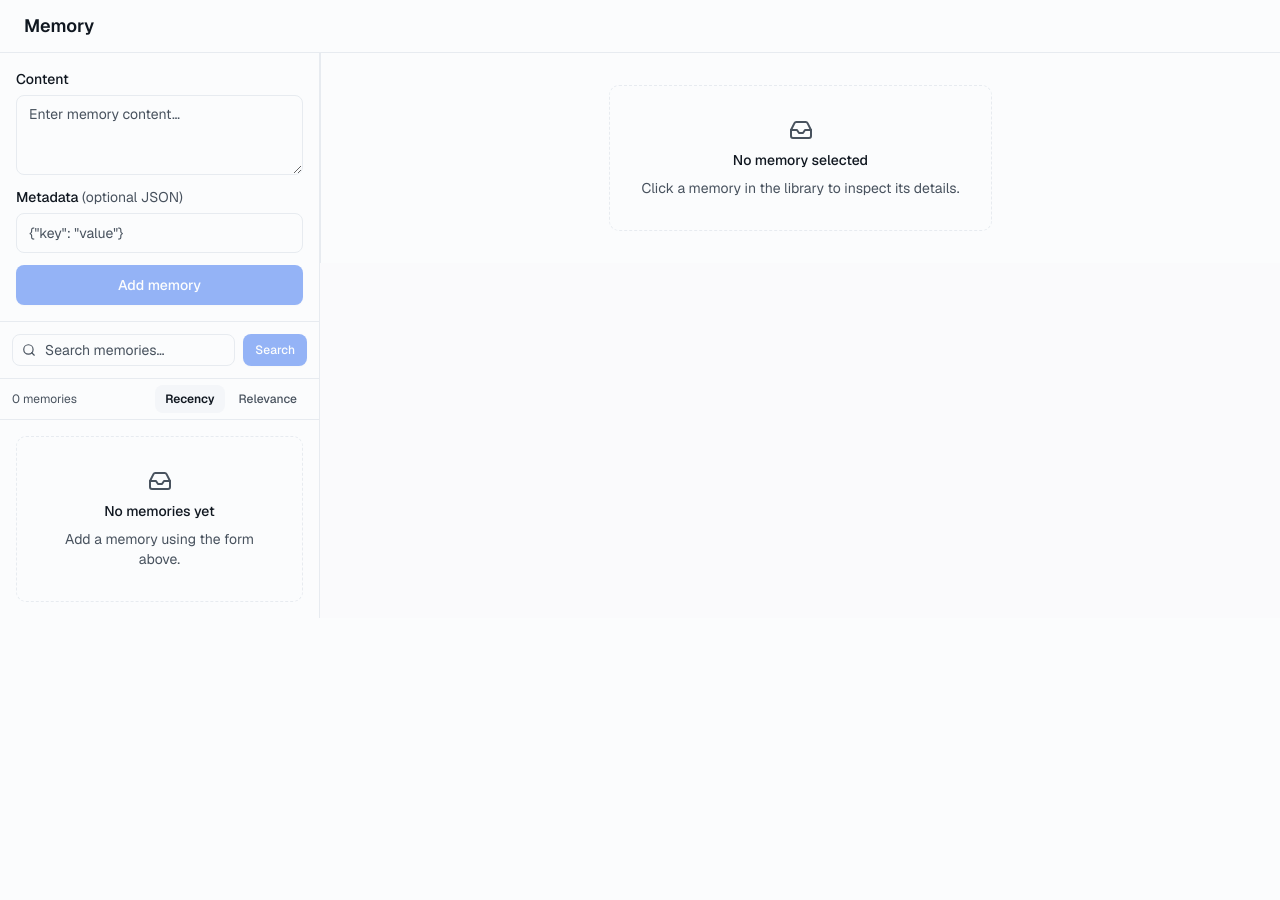
MemoryWorkspace › add_memory_posts_and_refreshes_list
Check: the button "Add memory" is disabled, box [16,265,303,305]
Type "Brand new memory" into the text box named "memory content" at (160, 135), box [16,95,303,175]
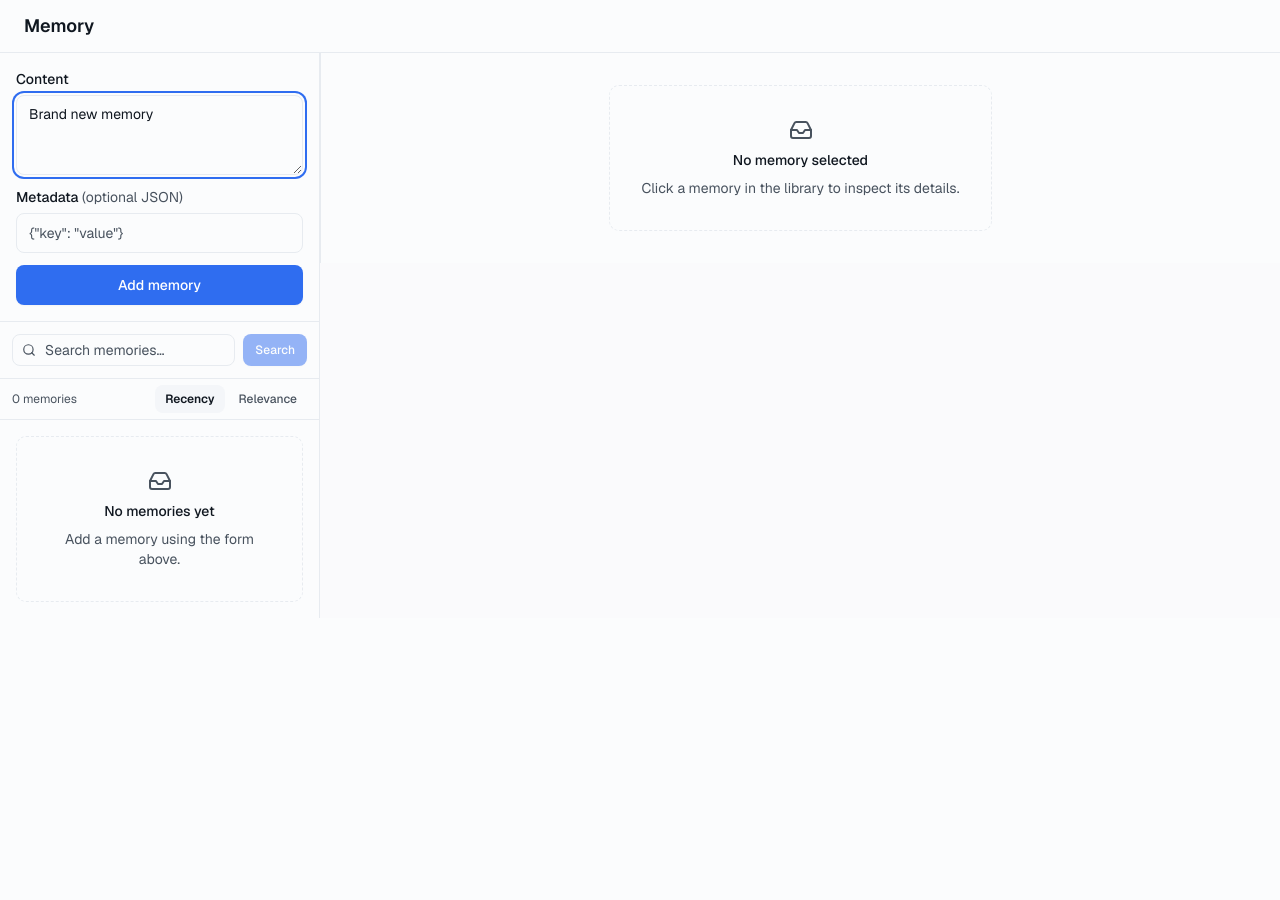
Check: the button "Add memory" is enabled
Click the button "Add memory" at (160, 285), box [16,265,303,305]
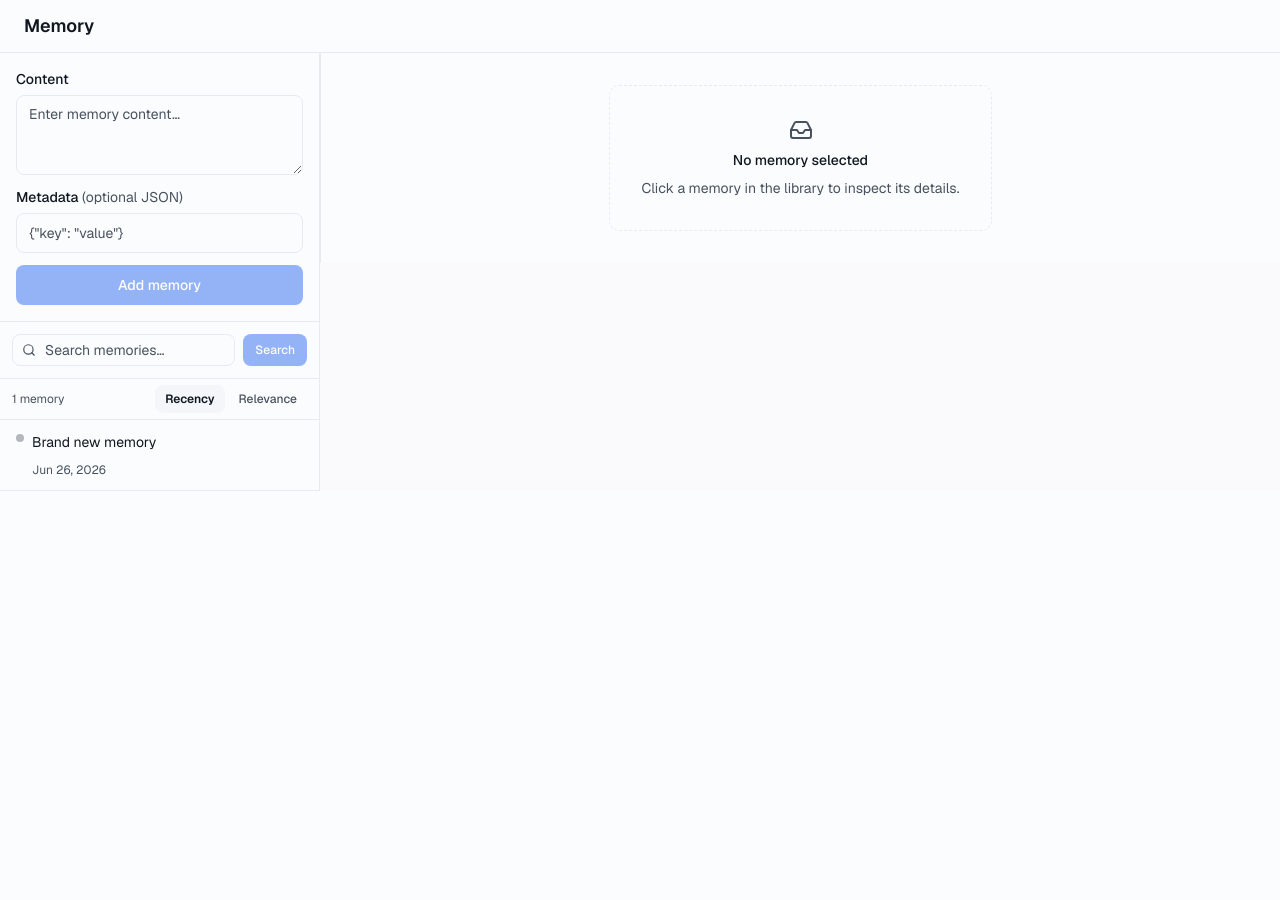
Check: the text "Brand new memory" is shown, box [32,433,156,451]
